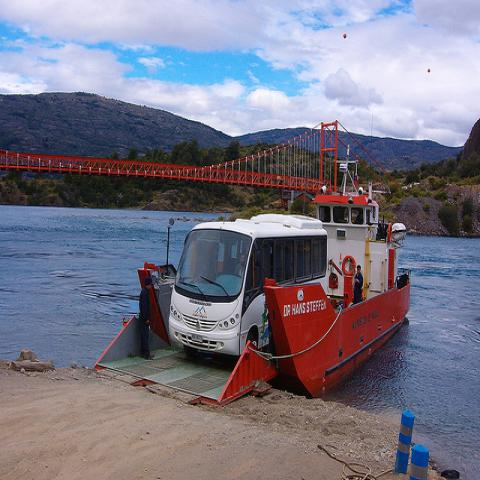bus: (170, 216, 330, 352)
